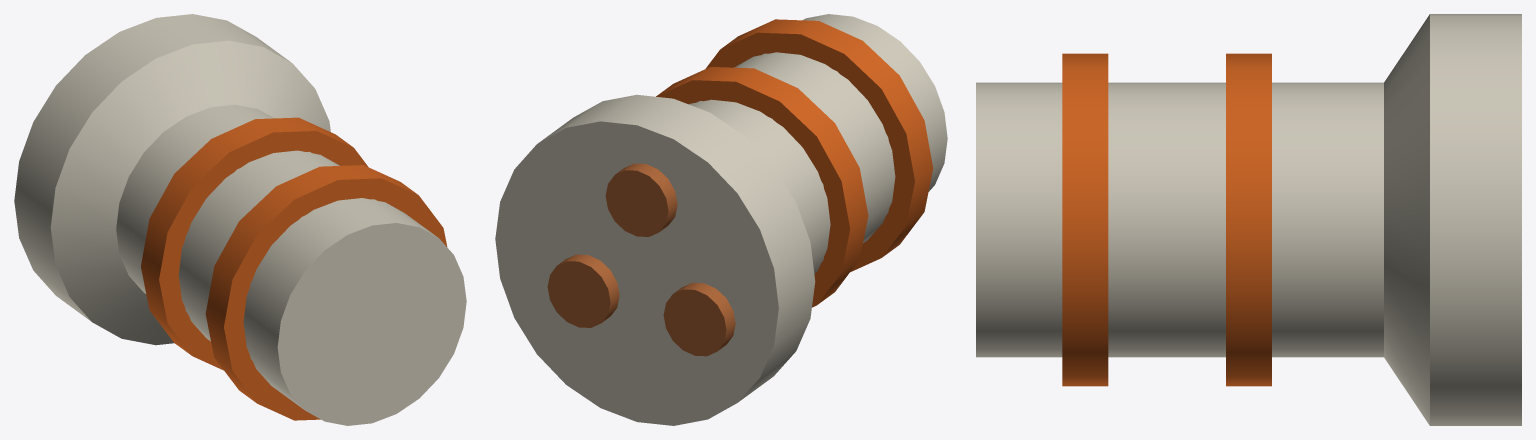
Rendered from u73l_busbar.obj.
The picture shows the model from 3 angles, left to right: view 1: azimuth 30°, elevation 25°; view 2: azimuth 150°, elevation 25°; view 3: azimuth 270°, elevation 25°; orthographic projection. The views are drawn at different scales.
Visible parts, largest first — view 1: u73l_busbar; view 2: u73l_busbar; view 3: u73l_busbar.
Part boxes in pixels (<box>): u73l_busbar: <box>14,14,466,425</box>; u73l_busbar: <box>495,14,947,425</box>; u73l_busbar: <box>976,14,1521,425</box>.
Bounding box in the file's own units: 0.72 × 0.72 × 0.95.
